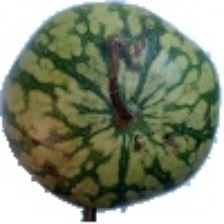watermelon: (25, 46, 161, 193)
